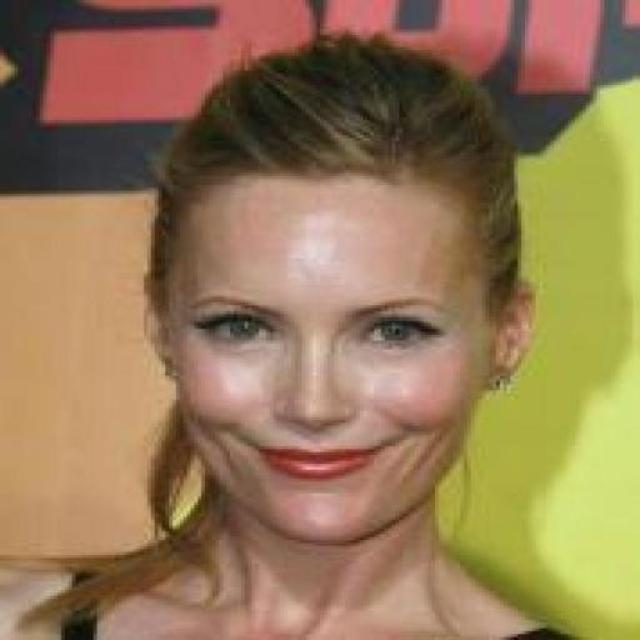bareface: (160, 172, 462, 527)
